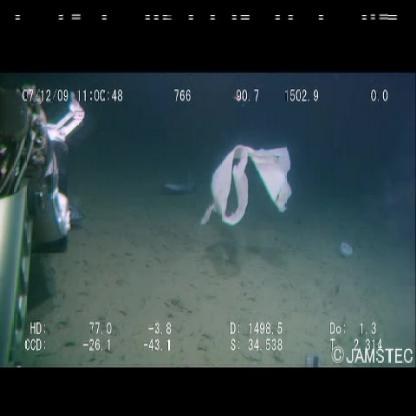Rác: (196, 142, 294, 232)
